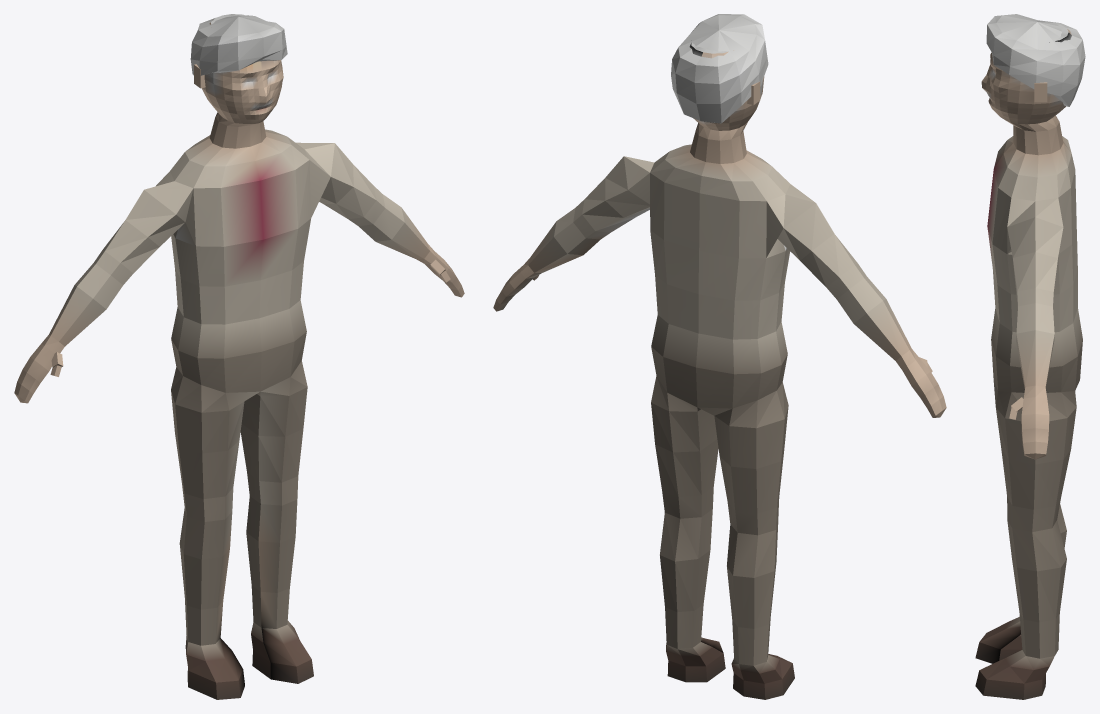
The model's file is char__pessoa__cardim.glb.
3 views of the same model, side by side, from view 1: azimuth 30°, elevation 25°; view 2: azimuth 150°, elevation 25°; view 3: azimuth 270°, elevation 25° (orthographic).
Visible parts, largest first — view 1: char__pessoa__cardim; view 2: char__pessoa__cardim; view 3: char__pessoa__cardim.
Boxes of the visible parts, x1=… form: char__pessoa__cardim: x1=14, y1=14, x2=464, y2=699; char__pessoa__cardim: x1=493, y1=14, x2=946, y2=699; char__pessoa__cardim: x1=975, y1=14, x2=1085, y2=699.
Size of the model in its own units: 1.27 by 1.79 by 0.2736.
